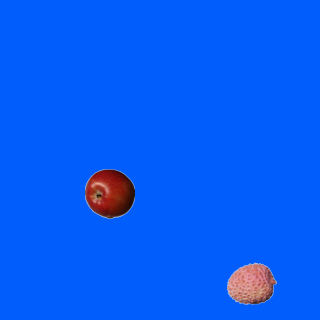Apple Braeburn: (84, 168, 134, 218)
Lychee: (226, 258, 276, 308)
